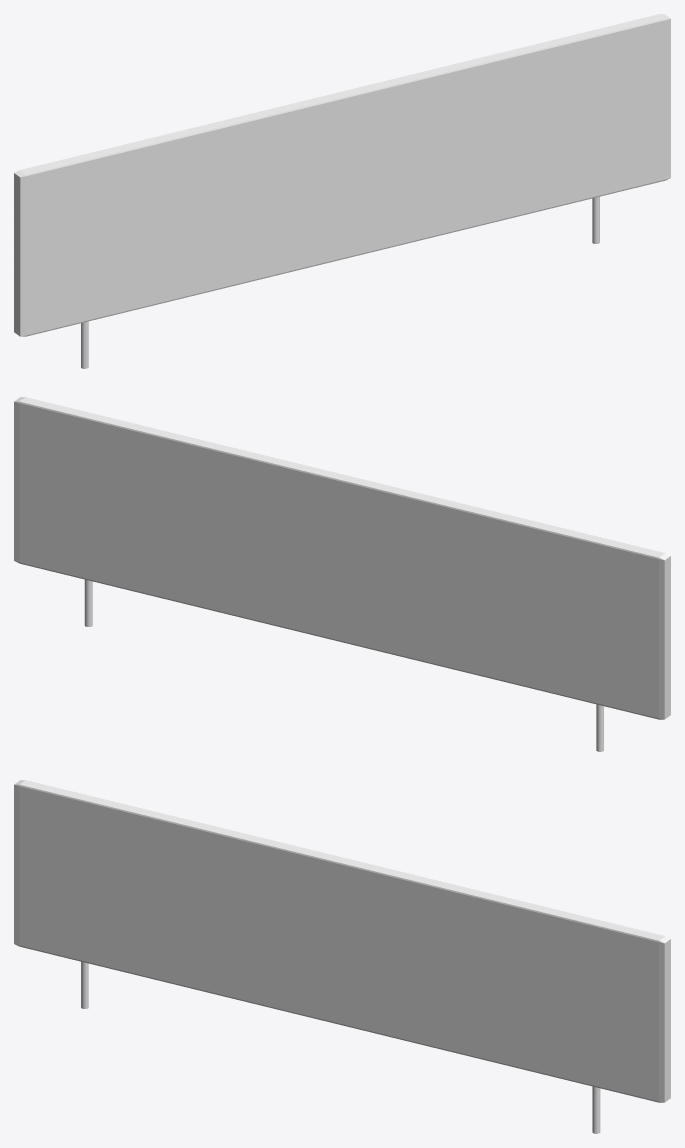
File: letreropuertas.obj
The picture shows the model from 3 angles, top to bottom: view 1: azimuth 30°, elevation 25°; view 2: azimuth 150°, elevation 25°; view 3: azimuth 330°, elevation 25°; orthographic projection.
Parts seen in each view (by area): view 1: sign_puertablanca; view 2: sign_puertablanca; view 3: sign_puertablanca.
Part boxes in pixels (box(x1,y1,x2,y2)): sign_puertablanca: box(14, 14, 670, 368); sign_puertablanca: box(14, 397, 670, 751); sign_puertablanca: box(14, 780, 670, 1133).
Size of the model in its own units: 14.02 by 4.32 by 0.25.
